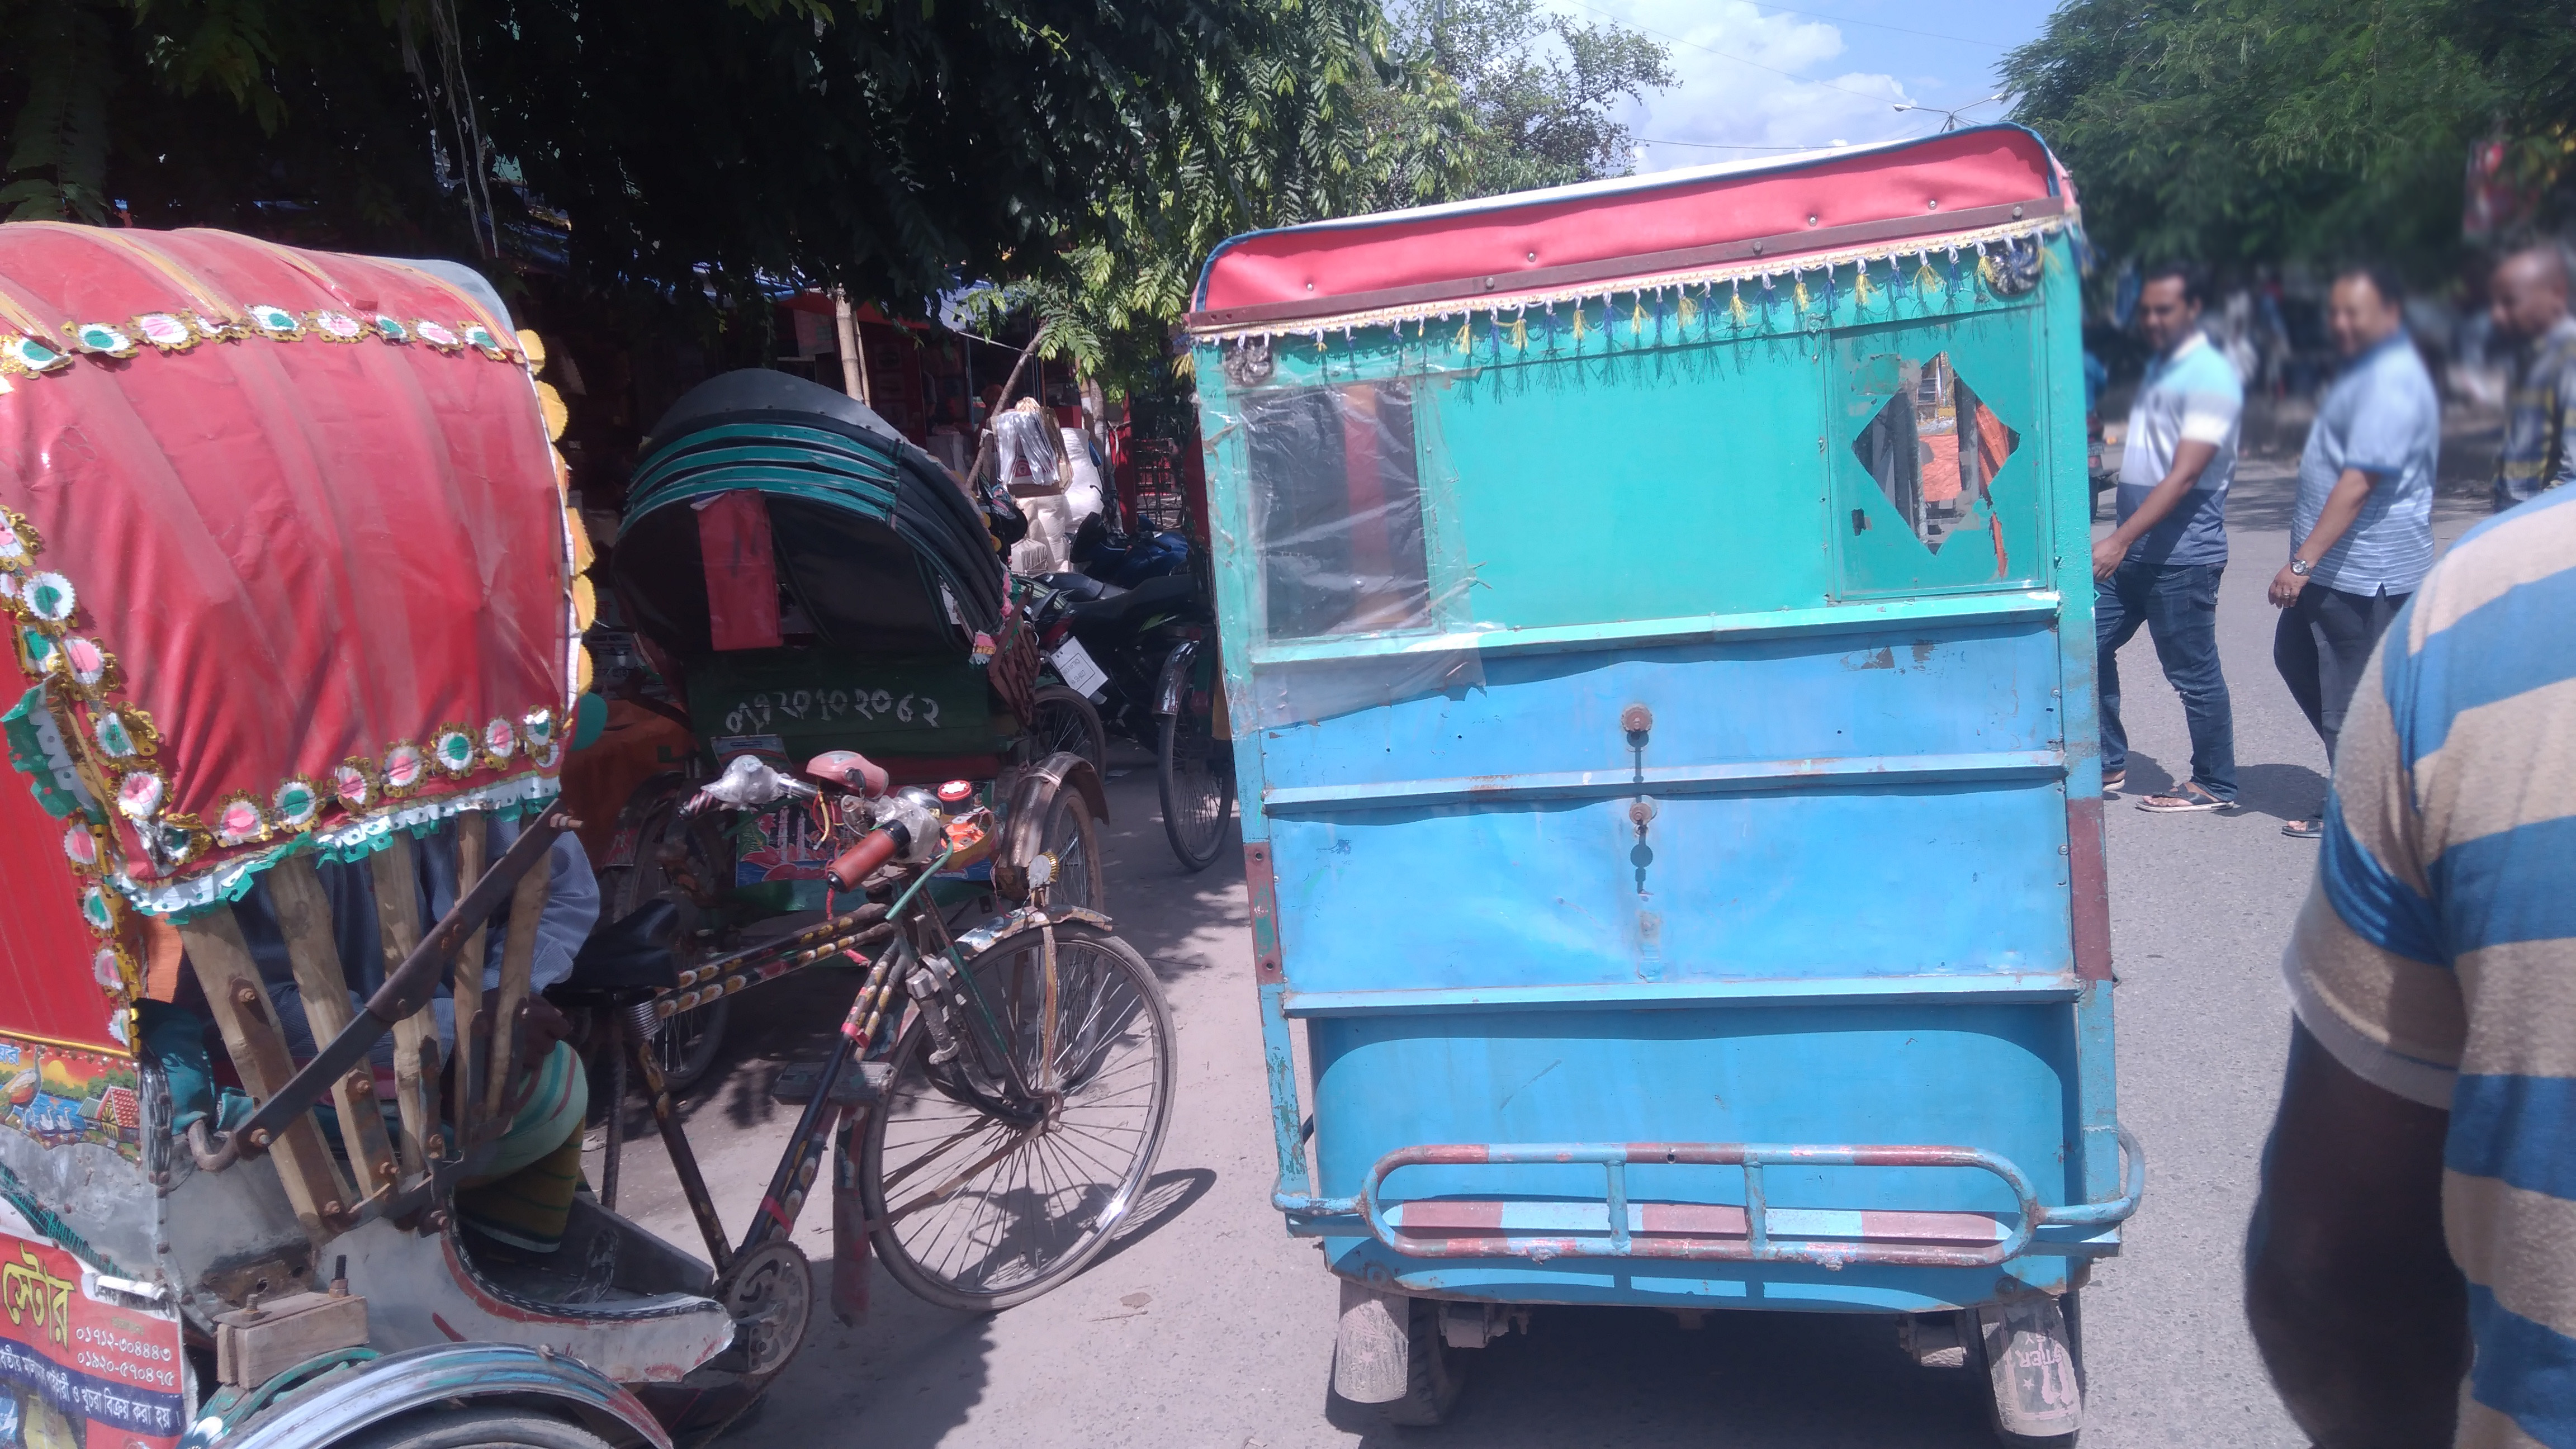easybike: (1150, 110, 2176, 1449)
rickshaw: (4, 202, 1198, 1449), (612, 345, 1219, 1051)
